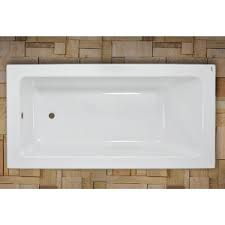bathub: (3, 60, 221, 181)
